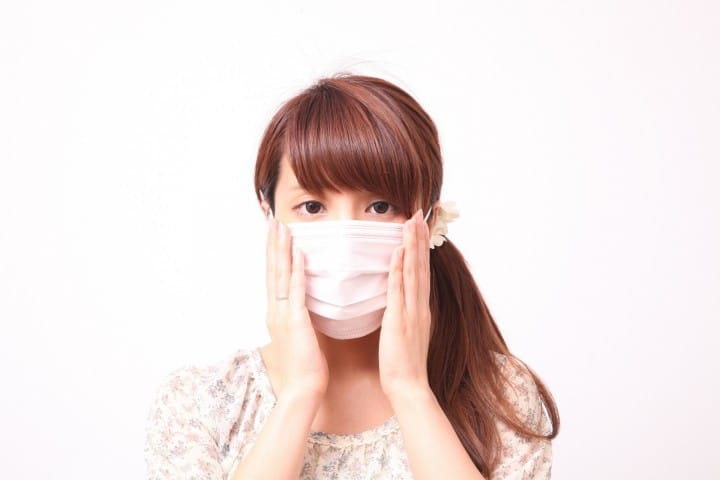surgical: (269, 219, 425, 340)
